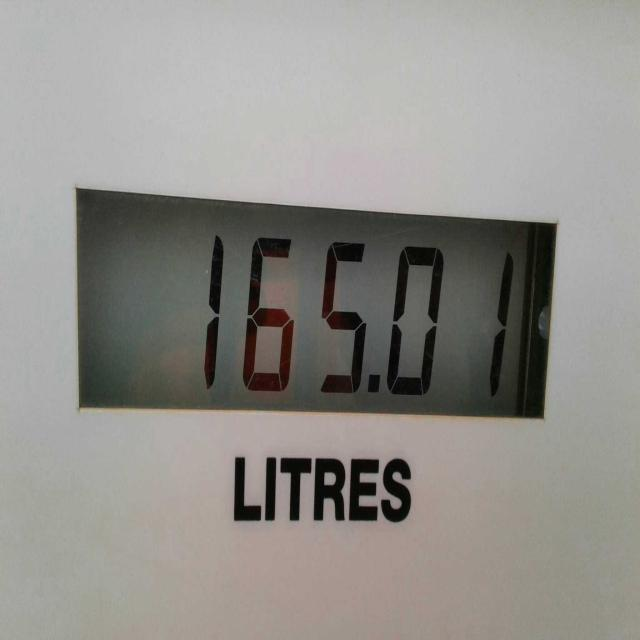.: (361, 359, 383, 396)
0: (378, 238, 450, 393)
1: (188, 224, 242, 395), (478, 238, 528, 400)
5: (312, 235, 372, 416)
6: (244, 231, 310, 400)
